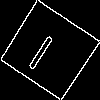I: (24, 25, 62, 72)
